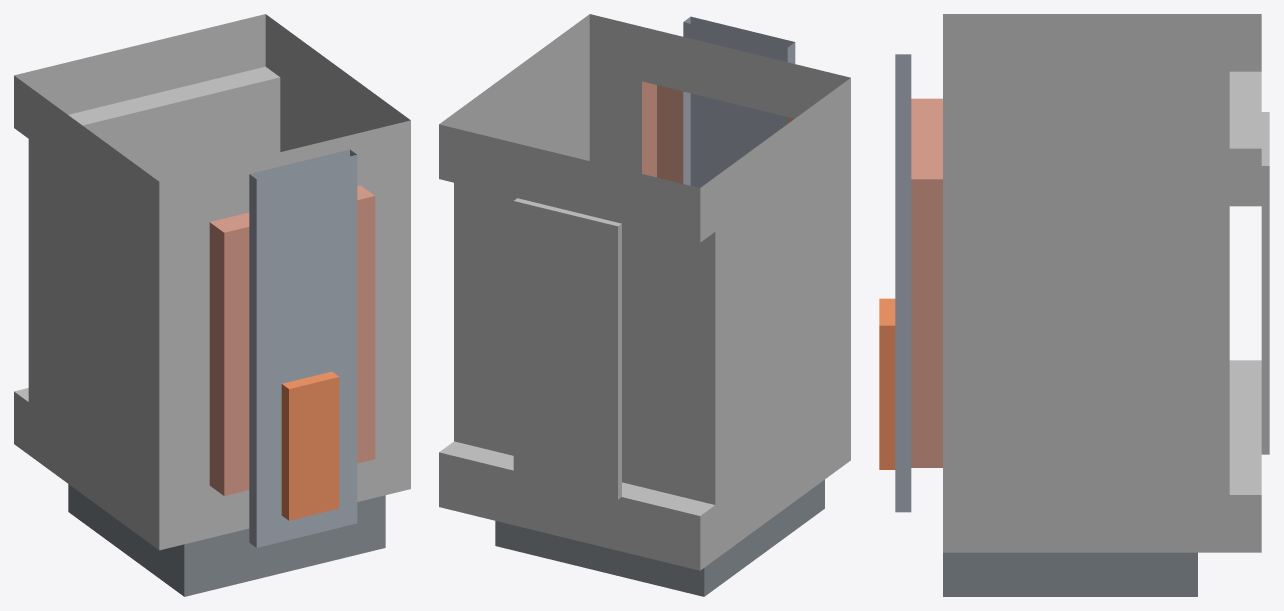
File: cell_31.obj
The picture shows the model from 3 angles, left to right: view 1: azimuth 30°, elevation 25°; view 2: azimuth 150°, elevation 25°; view 3: azimuth 270°, elevation 25°; orthographic projection. The views are drawn at different scales.
Bounding box in the file's own units: 0.625 × 1 × 0.7656.
